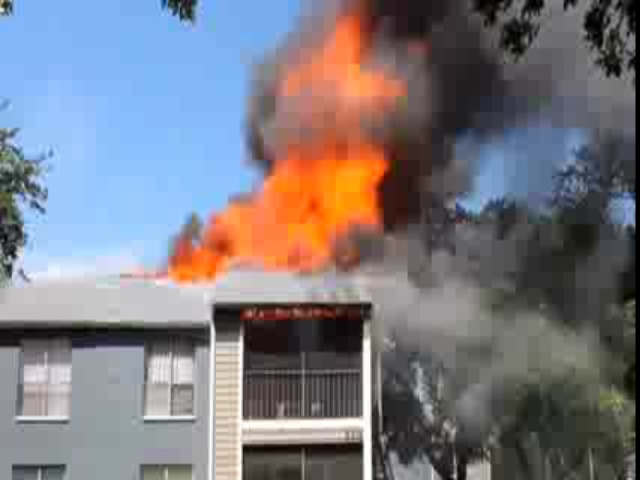fire: (171, 155, 379, 273)
